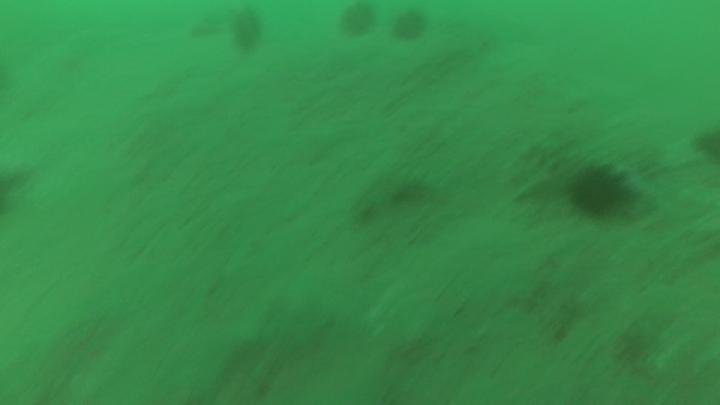echinus: (565, 158, 636, 224), (391, 7, 434, 50), (338, 2, 378, 41), (230, 9, 264, 54)
starfish: (601, 158, 653, 206)
